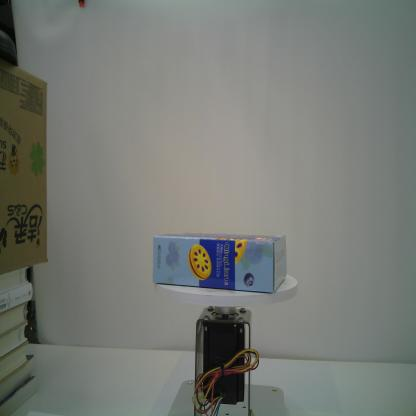Dessert: (152, 232, 288, 294)
